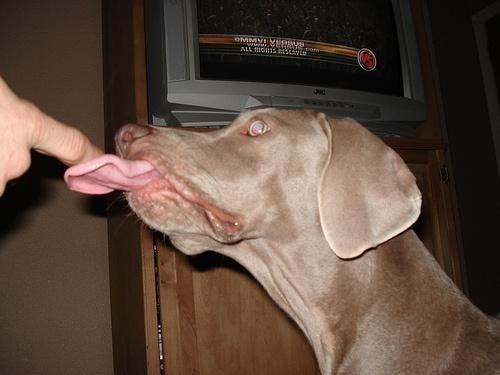dog: (62, 103, 500, 375)
tvmonitor: (145, 1, 430, 142)
